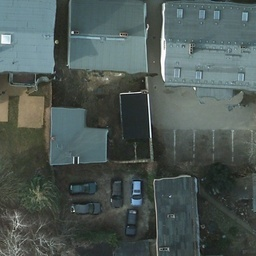car: (66, 171, 100, 205), (118, 173, 152, 207), (100, 174, 134, 208), (68, 191, 102, 225), (115, 204, 149, 238)
